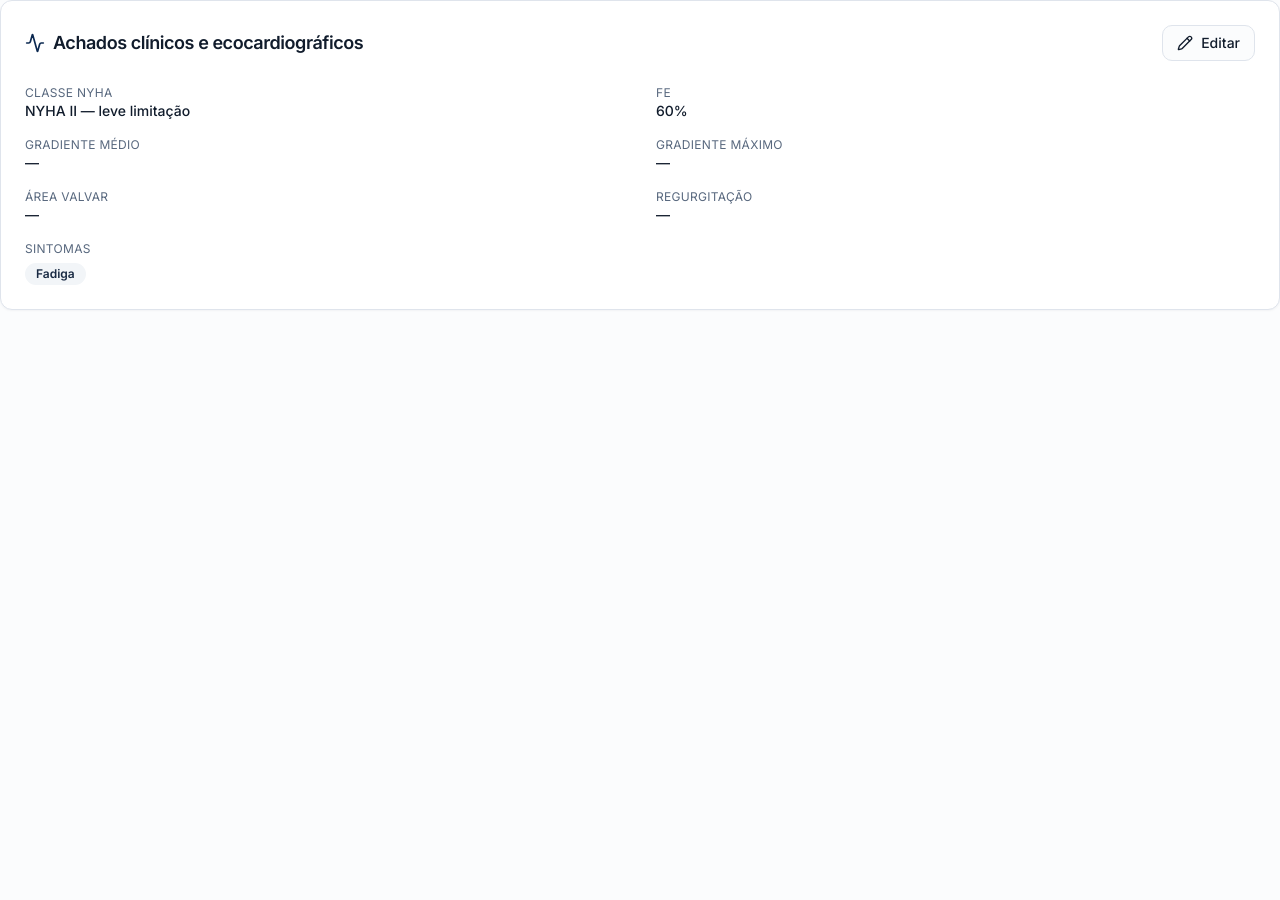
Test case: CaseFindingsEditor › nome pseudonimizado não volta a ser editável
The image size is (1280, 900).
What coordinates should you click on to do the following:
click the button "Editar"
I would click on:
 (1209, 43)
Its box is top-left (1162, 25), bottom-right (1255, 61).
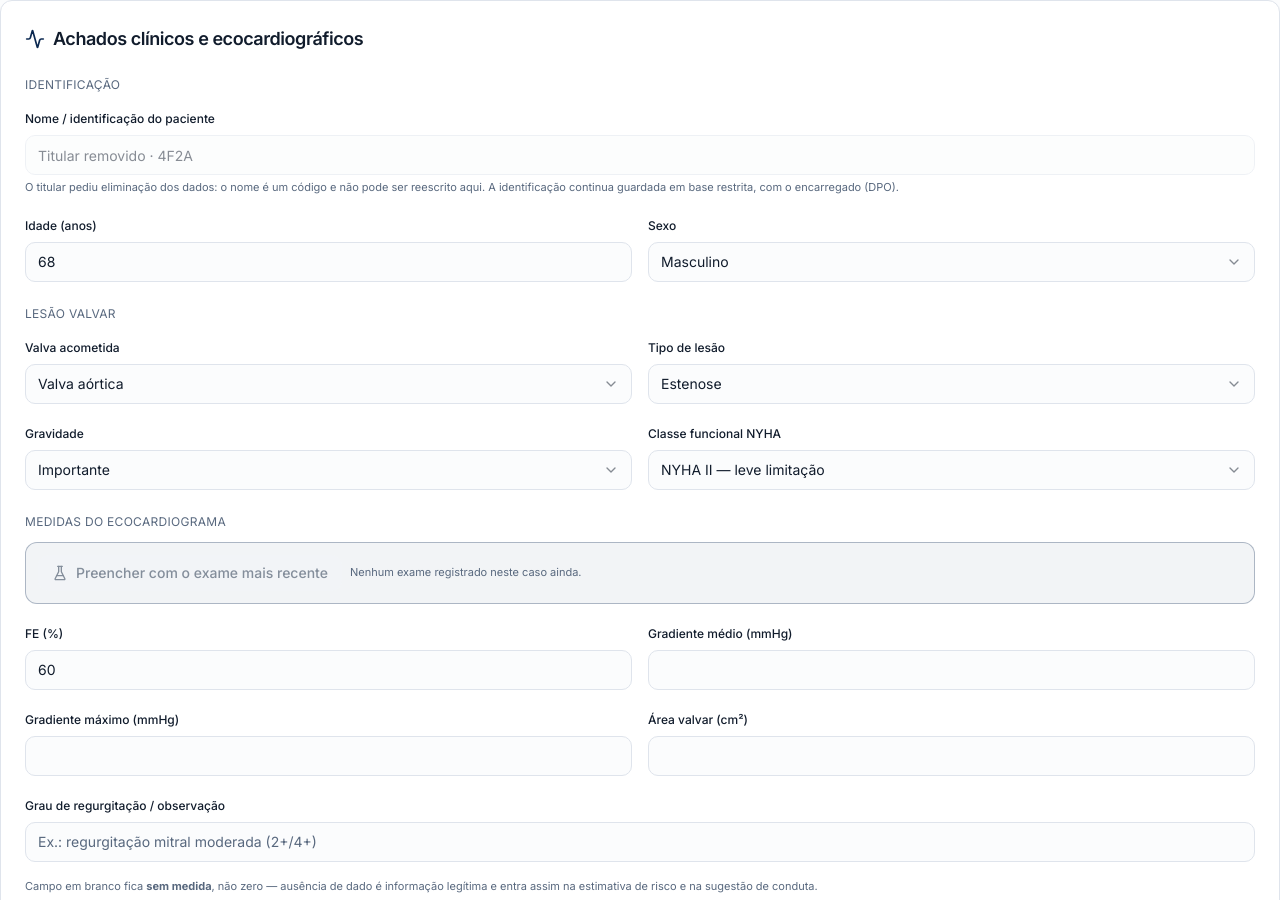
Check: the field showing "Titular removido · 4F2A" is disabled, box top-left (25, 135), bottom-right (1255, 175)
